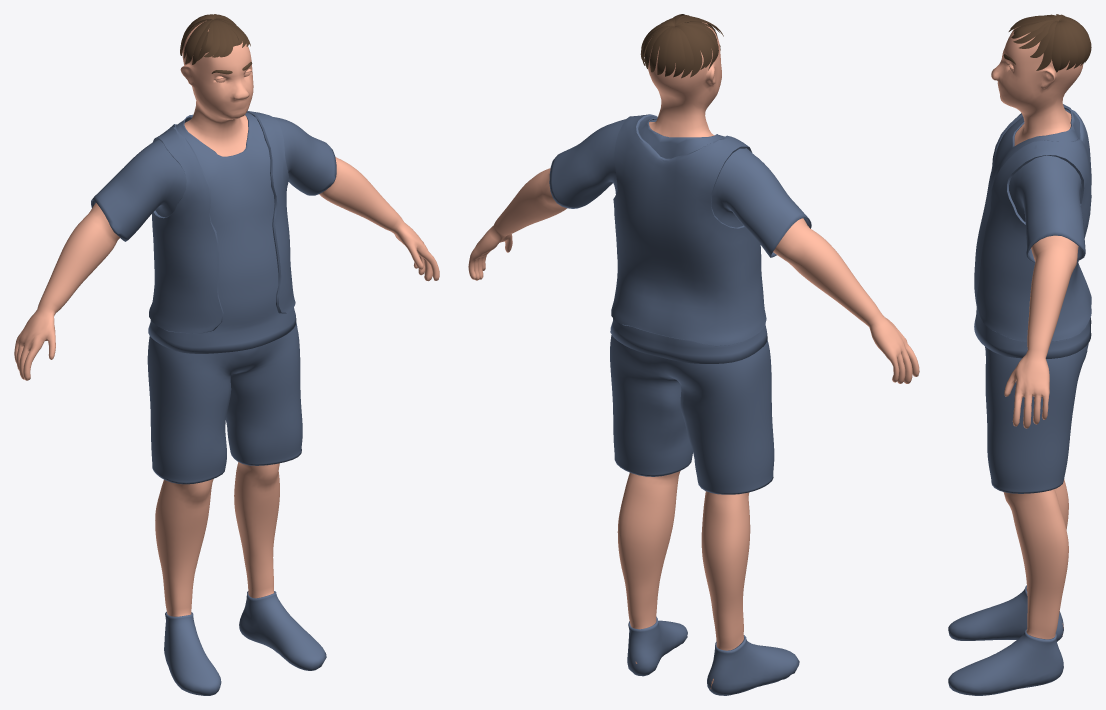
File: HallMonitor.fbx
3 renders of one model, left to right at view 1: azimuth 30°, elevation 25°; view 2: azimuth 150°, elevation 25°; view 3: azimuth 270°, elevation 25°, orthographic. The views are drawn at different scales.
Visible parts, largest first — view 1: HallMonitor, Shirt, Shorts, Retopo_Vest, Shoes, Retopo_Hair; view 2: HallMonitor, Retopo_Vest, Shorts, Shirt, Shoes, Retopo_Hair; view 3: HallMonitor, Retopo_Vest, Shorts, Shirt, Shoes, Retopo_Hair.
Part boxes in pixels (left/top/right/bottom): HallMonitor: left=14, top=21, right=439, bottom=616; Shirt: left=91, top=112, right=336, bottom=353; Shorts: left=147, top=323, right=302, bottom=484; Retopo_Vest: left=149, top=110, right=295, bottom=333; Shoes: left=164, top=591, right=326, bottom=695; Retopo_Hair: left=180, top=14, right=252, bottom=74; HallMonitor: left=468, top=22, right=919, bottom=688; Retopo_Vest: left=611, top=114, right=766, bottom=346; Shorts: left=610, top=335, right=774, bottom=494; Shirt: left=549, top=115, right=811, bottom=363; Shoes: left=627, top=616, right=799, bottom=695; Retopo_Hair: left=640, top=14, right=723, bottom=78; HallMonitor: left=991, top=27, right=1083, bottom=639; Retopo_Vest: left=977, top=104, right=1091, bottom=341; Shorts: left=985, top=343, right=1088, bottom=493; Shirt: left=974, top=107, right=1091, bottom=358; Shoes: left=948, top=585, right=1063, bottom=695; Retopo_Hair: left=1003, top=14, right=1091, bottom=72.
Bounding box in the file's own units: 1.19 × 1.72 × 0.3457.
